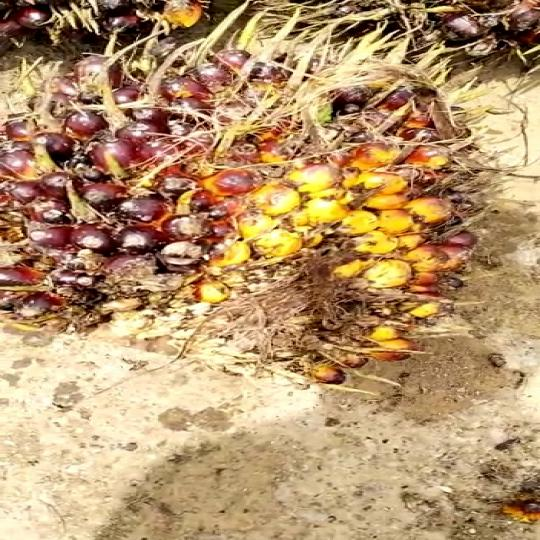kurang masak: (5, 43, 536, 398)
